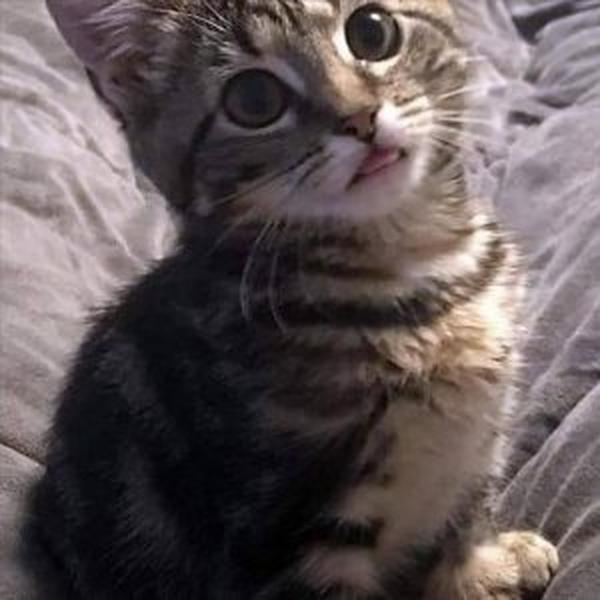michi: (23, 1, 571, 588)
